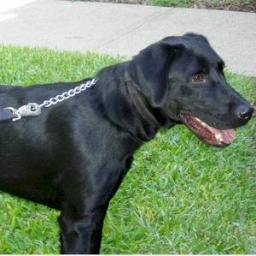dog: (0, 27, 255, 252)
